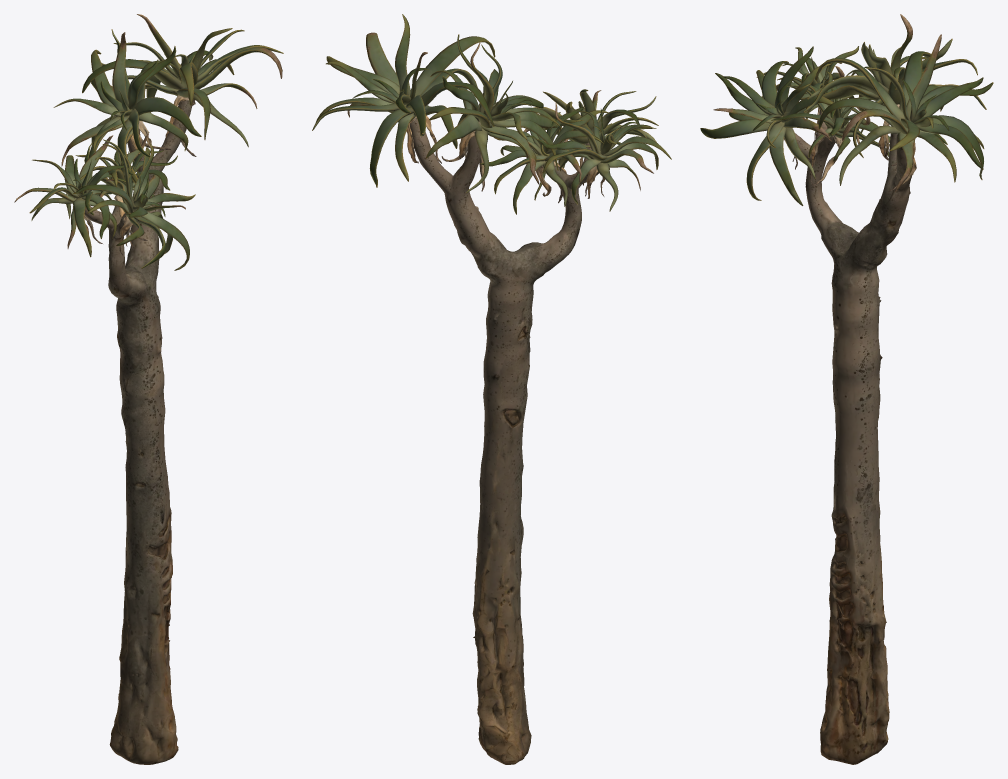
File: quiver-tree-mobile.glb
3 renders of one model, left to right at view 1: azimuth 30°, elevation 25°; view 2: azimuth 150°, elevation 25°; view 3: azimuth 270°, elevation 25°, orthographic. The views are drawn at different scales.
Parts seen in each view (by area): view 1: quiver_tree_01; view 2: quiver_tree_01; view 3: quiver_tree_01.
Part boxes in pixels (x1,y1,x2,y2): quiver_tree_01: (14, 14, 283, 764); quiver_tree_01: (312, 14, 671, 764); quiver_tree_01: (700, 14, 993, 764).
Bounding box in the file's own units: 1.18 × 2.72 × 0.9683.
2 materials, 2 textured.
